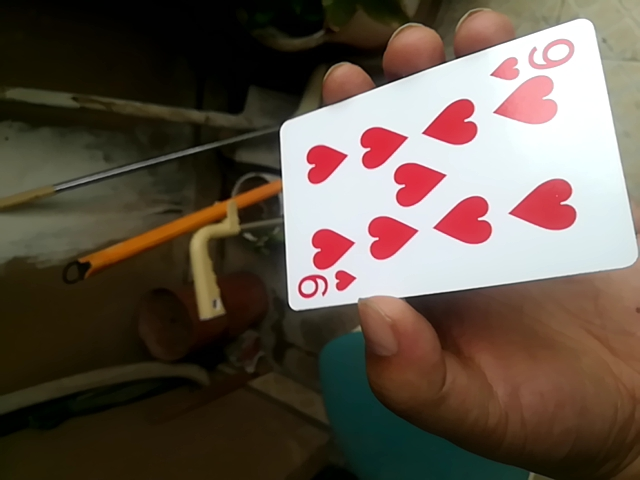hx 9: (273, 25, 637, 316)
